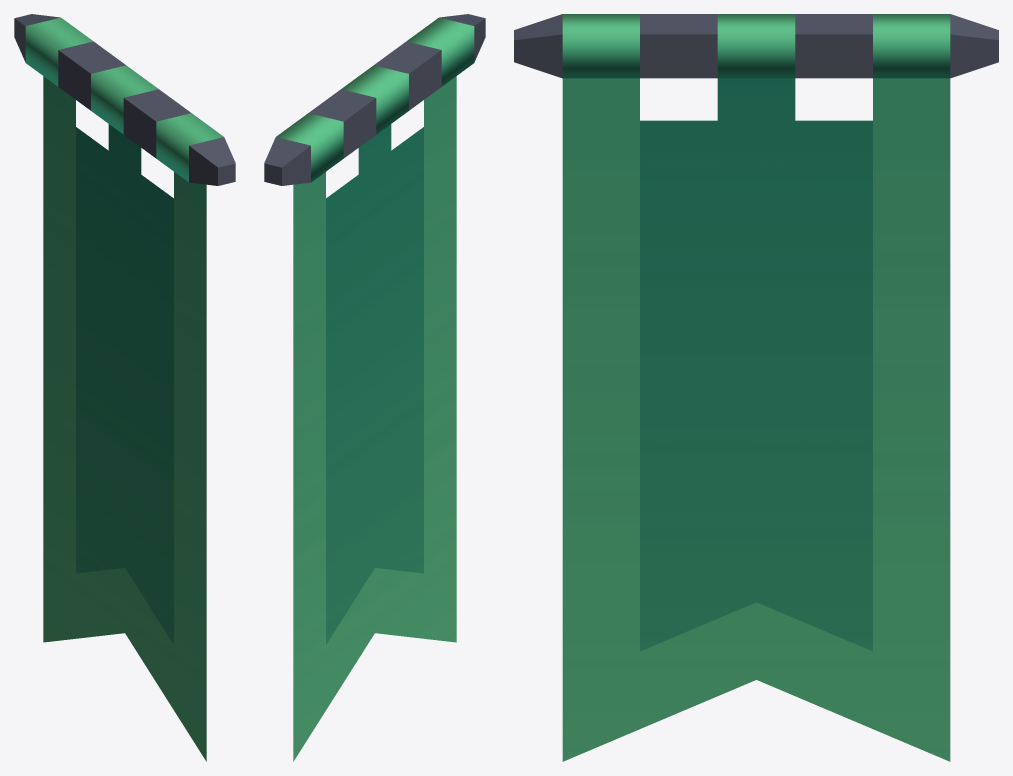
File: banner-green.glb
3 renders of one model, left to right at view 1: azimuth 30°, elevation 25°; view 2: azimuth 150°, elevation 25°; view 3: azimuth 270°, elevation 25°, orthographic. The views are drawn at different scales.
Parts seen in each view (by area): view 1: banner-green; view 2: banner-green; view 3: banner-green.
Boxes of the visible parts, left/top/right/bottom form: banner-green: left=14, top=14, right=235, bottom=761; banner-green: left=264, top=14, right=485, bottom=761; banner-green: left=514, top=14, right=998, bottom=761.
Size of the model in its own units: 0.05 by 0.8394 by 0.5.
1 material, 1 textured.
